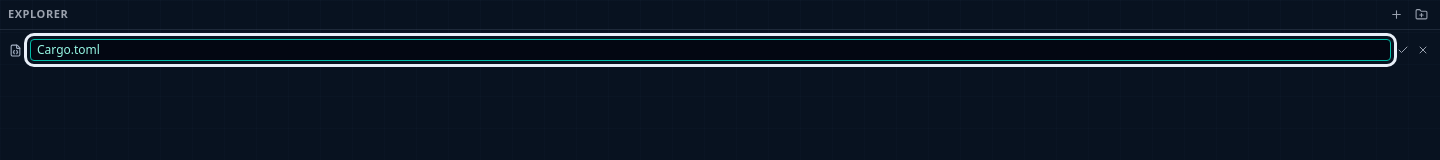
Test case: FileTree › inline CRUD operations with optimistic updates › renames a node optimistically
Earlier steps of the test are not shown.
Replace the text in the field with test id "filetree-rename-input-Cargo.toml" with "Cargo_v2.toml" at x=710, y=50, box top-left (30, 39), bottom-right (1391, 61)
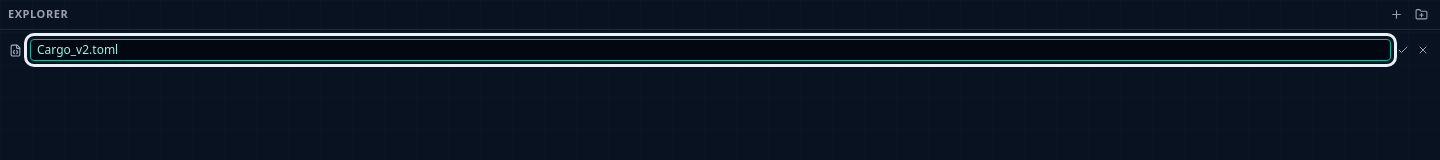
Press Enter in the field with test id "filetree-rename-input-Cargo.toml", box top-left (30, 39), bottom-right (1391, 61)
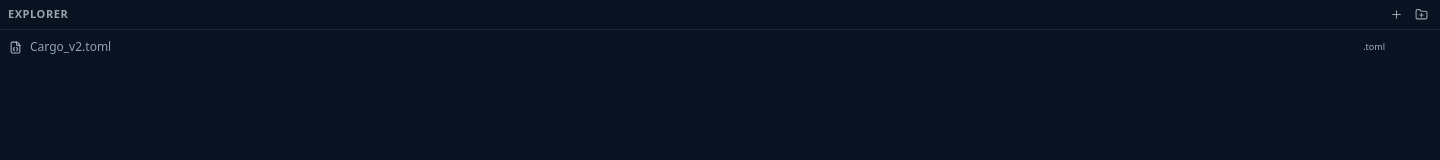
Check: the text "Cargo_v2.toml" is shown, box top-left (30, 39), bottom-right (111, 55)
